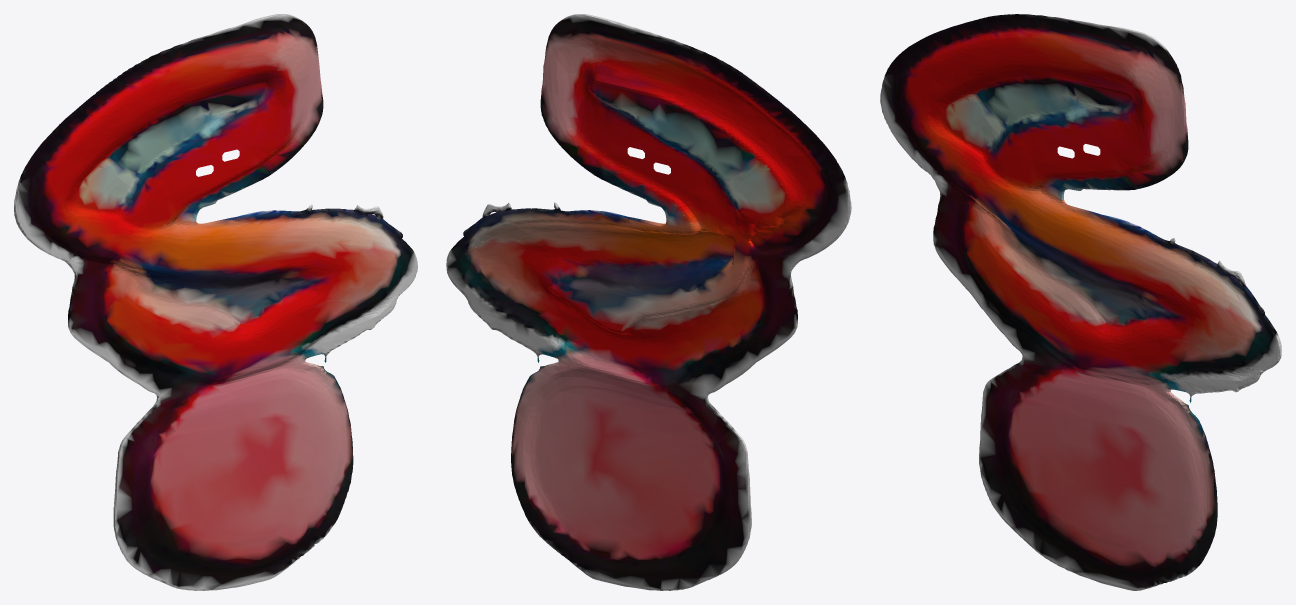
The model's file is amulet_red.glb.
The picture shows the model from 3 angles, left to right: view 1: azimuth 30°, elevation 25°; view 2: azimuth 150°, elevation 25°; view 3: azimuth 330°, elevation 25°; orthographic projection.
Visible parts, largest first — view 1: geometry_0; view 2: geometry_0; view 3: geometry_0.
Part boxes in pixels (box(x1,y1,x2,y2)): geometry_0: box(14, 14, 417, 590); geometry_0: box(446, 14, 851, 590); geometry_0: box(880, 14, 1281, 590).
Bounding box in the file's own units: 0.5 × 0.6659 × 0.0185.
